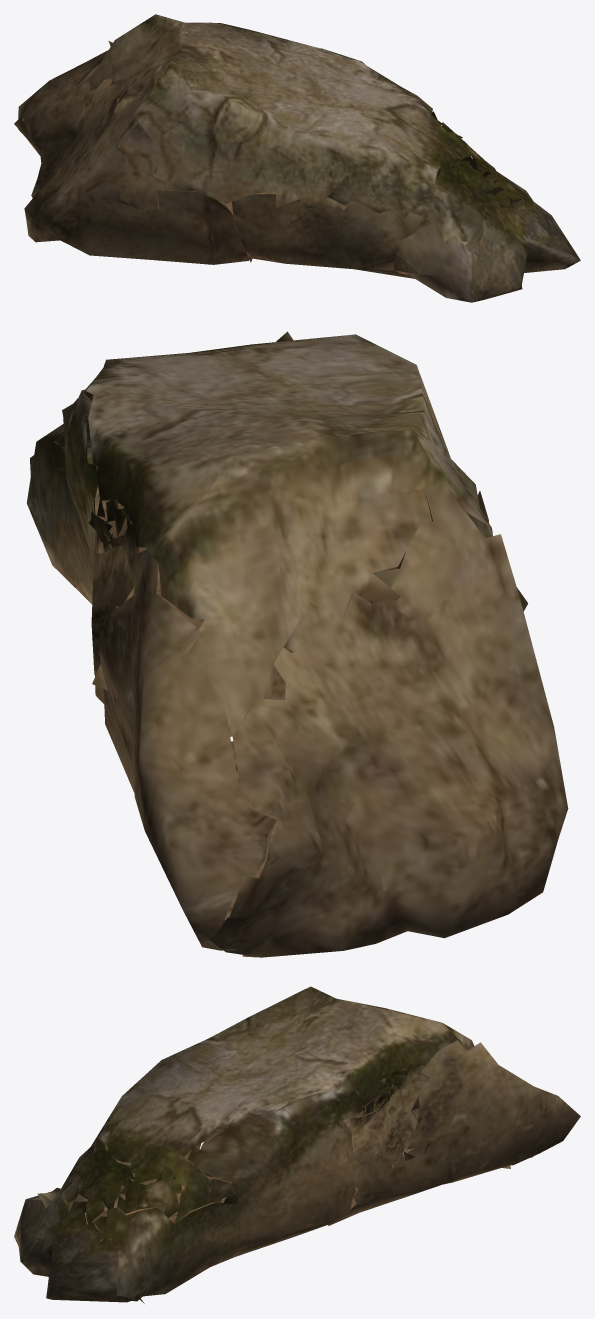
The model's file is mossy_rock_2.glb.
3 renders of one model, top to bottom at view 1: azimuth 30°, elevation 25°; view 2: azimuth 150°, elevation 25°; view 3: azimuth 270°, elevation 25°, orthographic. The views are drawn at different scales.
Parts seen in each view (by area): view 1: mossy_rock_2; view 2: mossy_rock_2; view 3: mossy_rock_2.
Part boxes in pixels (x1,y1,x2,y2): mossy_rock_2: (14,14,580,302); mossy_rock_2: (27,331,568,957); mossy_rock_2: (14,986,580,1303).
Size of the model in its own units: 2.65 by 1.31 by 3.28.
Materials: 1 (1 with a texture image).
